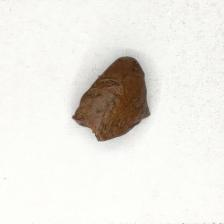NG: (71, 105, 151, 142)
